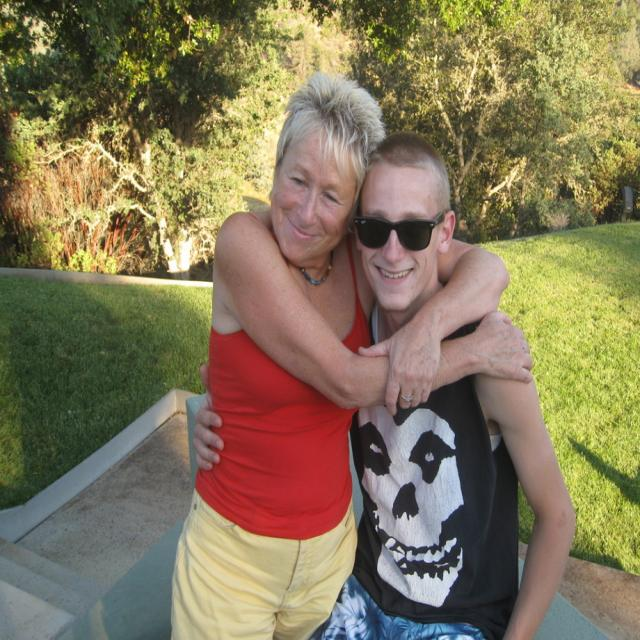Glasses: (354, 206, 448, 254)
